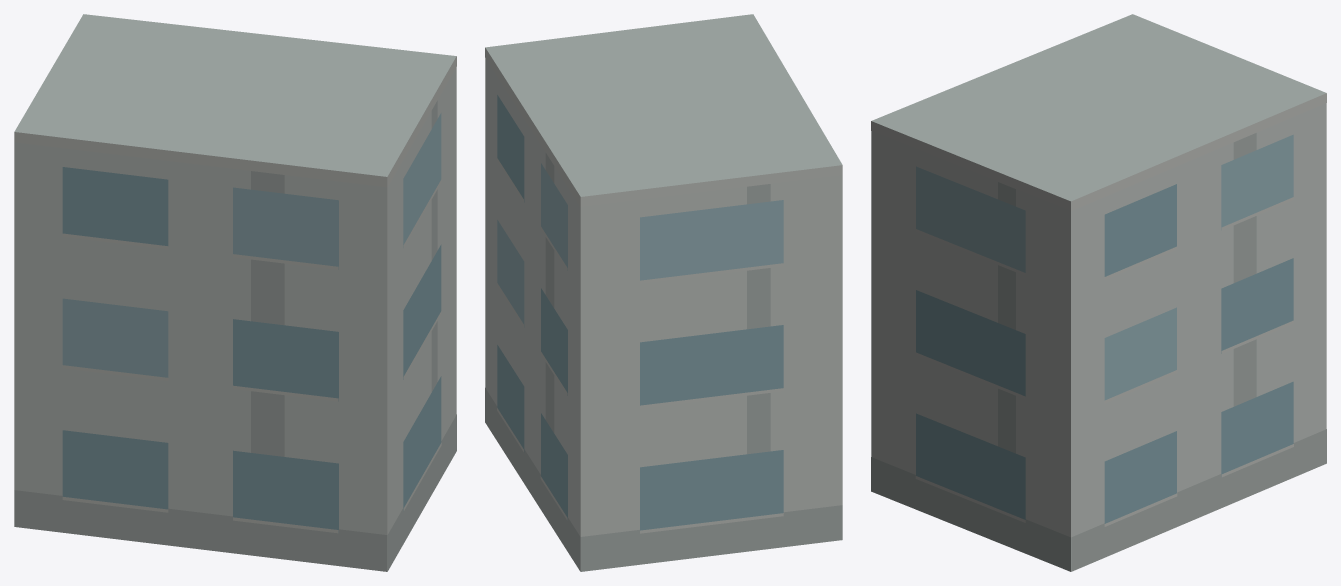
The model's file is survey-upis-32782690.glb.
3 renders of one model, left to right at view 1: azimuth 30°, elevation 25°; view 2: azimuth 150°, elevation 25°; view 3: azimuth 270°, elevation 25°, orthographic. The views are drawn at different scales.
Visible parts, largest first — view 1: survey-upis-32782690.tmp; view 2: survey-upis-32782690.tmp; view 3: survey-upis-32782690.tmp.
Part boxes in pixels (<box>): survey-upis-32782690.tmp: <box>14,14,456,571</box>; survey-upis-32782690.tmp: <box>485,14,842,571</box>; survey-upis-32782690.tmp: <box>871,14,1326,571</box>.
Size of the model in its own units: 9.94 by 9.15 by 10.21.
